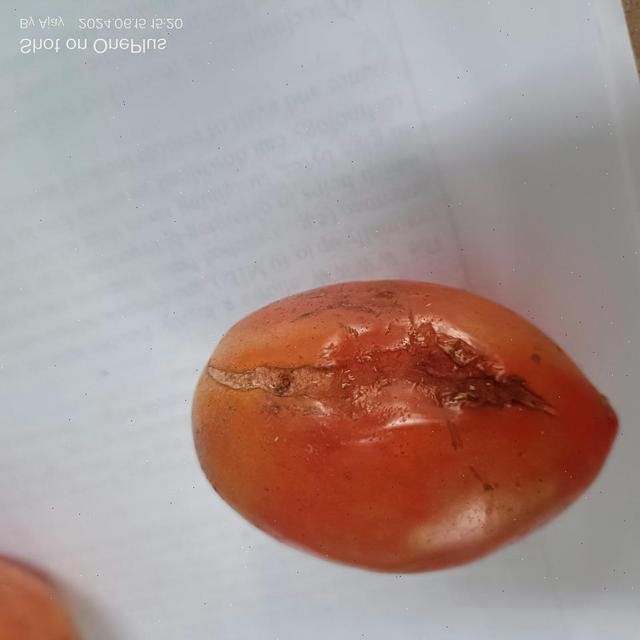Cracking Fruit: (114, 122, 432, 401)
